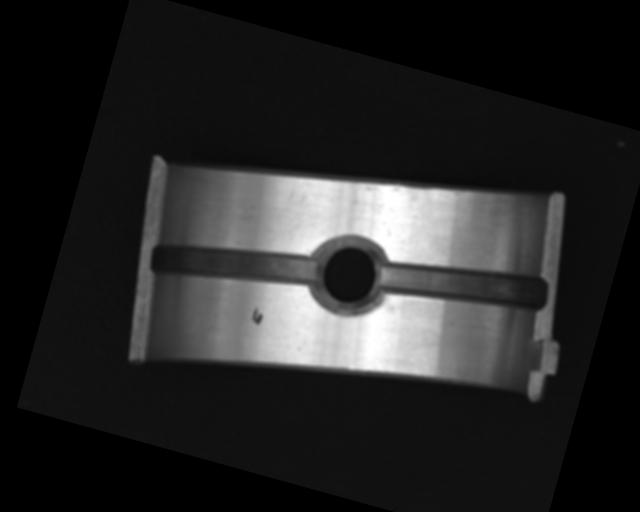blot: (249, 305, 264, 326)
gap: (372, 234, 551, 334), (149, 213, 321, 312)
hole: (305, 229, 389, 317)
